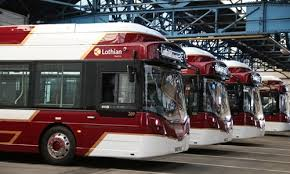bus: (1, 21, 192, 165), (182, 45, 233, 150), (218, 59, 266, 143), (258, 71, 289, 134)
